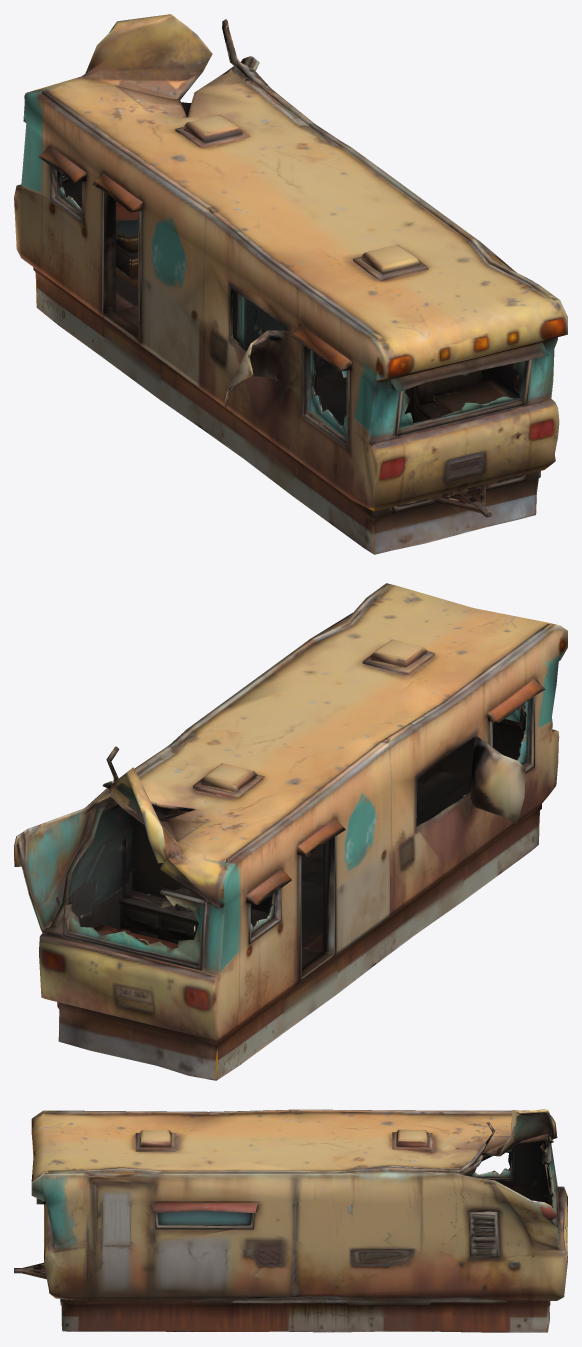
The model's file is trailer.fbx.
3 renders of one model, top to bottom at view 1: azimuth 30°, elevation 25°; view 2: azimuth 150°, elevation 25°; view 3: azimuth 270°, elevation 25°, orthographic. The views are drawn at different scales.
Parts seen in each view (by area): view 1: input; view 2: input; view 3: input.
Boxes of the visible parts, <box> form: input: <box>14,14,567,554</box>; input: <box>14,583,567,1080</box>; input: <box>14,1109,567,1332</box>.
Bounding box in the file's own units: 83.58 × 81.37 × 200.
Materials: 1 (1 with a texture image).
